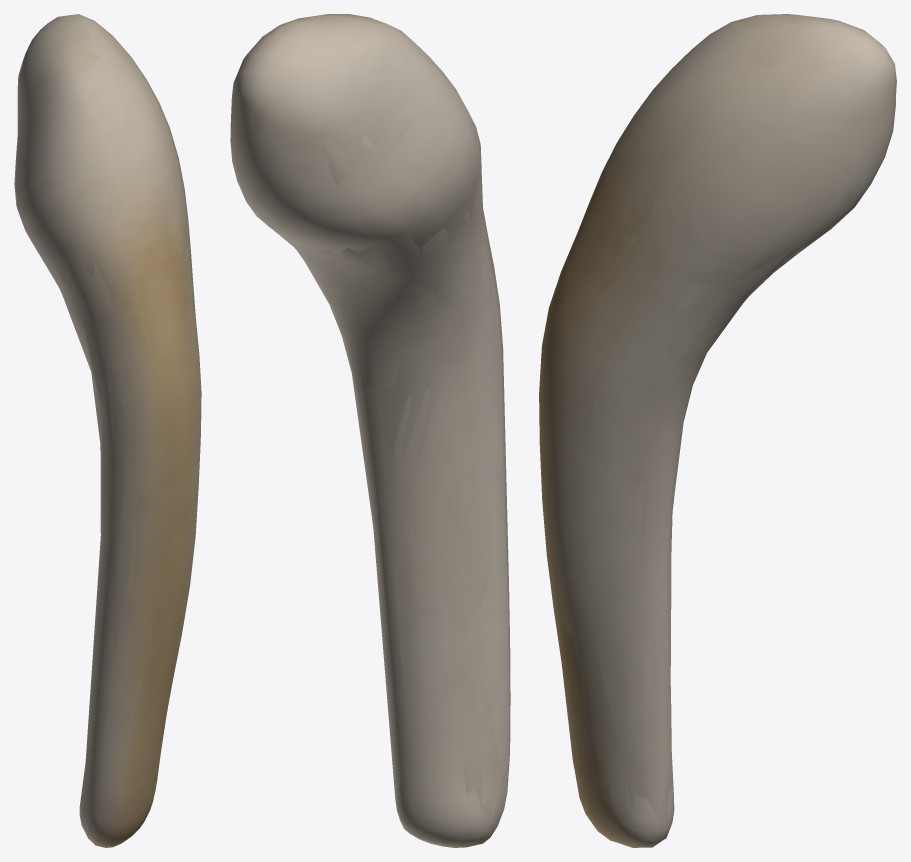
The model's file is R Ulna.fbx.
3 views of the same model, side by side, from view 1: azimuth 30°, elevation 25°; view 2: azimuth 150°, elevation 25°; view 3: azimuth 270°, elevation 25° (orthographic). The views are drawn at different scales.
Parts seen in each view (by area): view 1: R Ulna, R Ulna low; view 2: R Ulna, R Ulna low; view 3: R Ulna, R Ulna low.
Boxes of the visible parts, box(x1,y1,x2,y2) form: R Ulna: box(14, 14, 201, 847); R Ulna low: box(14, 14, 201, 847); R Ulna: box(230, 14, 510, 847); R Ulna low: box(235, 14, 508, 847); R Ulna: box(539, 14, 896, 847); R Ulna low: box(539, 14, 893, 846).
Bounding box in the file's own units: 2.4 × 11.17 × 4.26.
